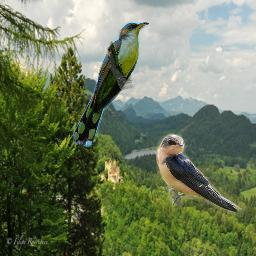Cuckoo: (73, 22, 149, 147)
Swallow: (156, 130, 247, 217)
